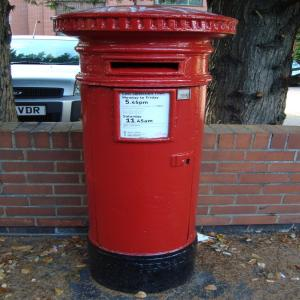Vehicle-registration-plate: (16, 107, 46, 117)
